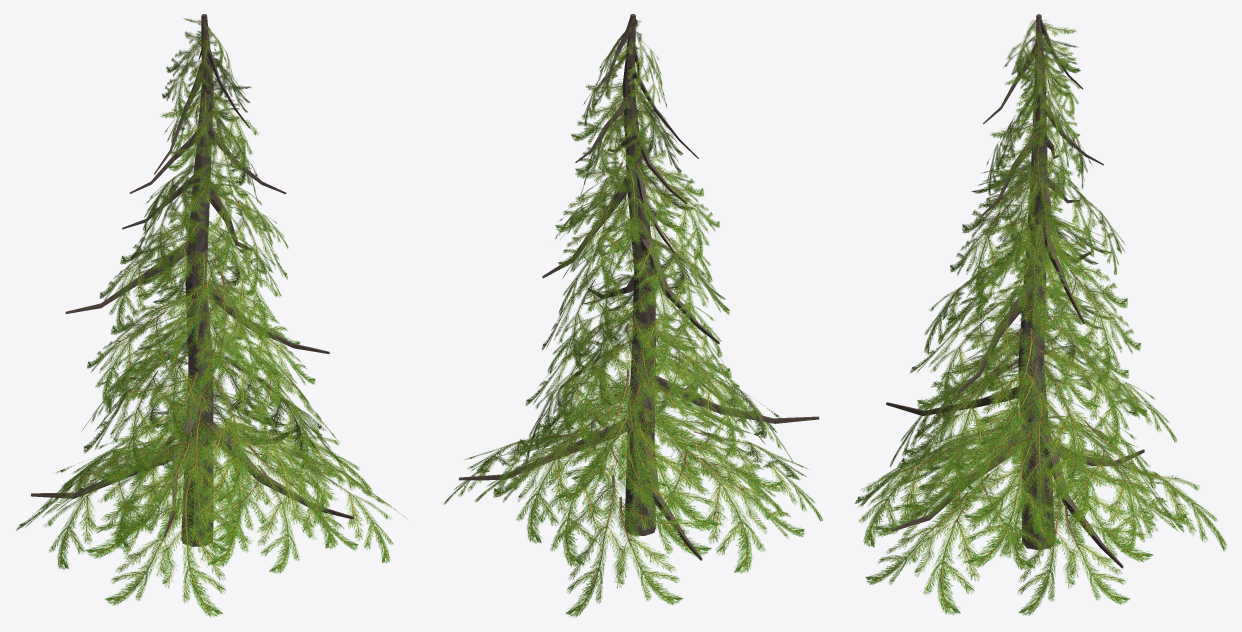
File: Spruce2.glb
3 renders of one model, left to right at view 1: azimuth 30°, elevation 25°; view 2: azimuth 150°, elevation 25°; view 3: azimuth 270°, elevation 25°, orthographic. The views are drawn at different scales.
Visible parts, largest first — view 1: branch1.004; view 2: branch1.004; view 3: branch1.004.
Boxes of the visible parts, left/top/right/bottom form: branch1.004: left=16, top=14, right=406, bottom=617; branch1.004: left=443, top=14, right=822, bottom=617; branch1.004: left=854, top=14, right=1226, bottom=615.
Bounding box in the file's own units: 4.59 × 7.25 × 4.48.
2 materials, 2 textured.
